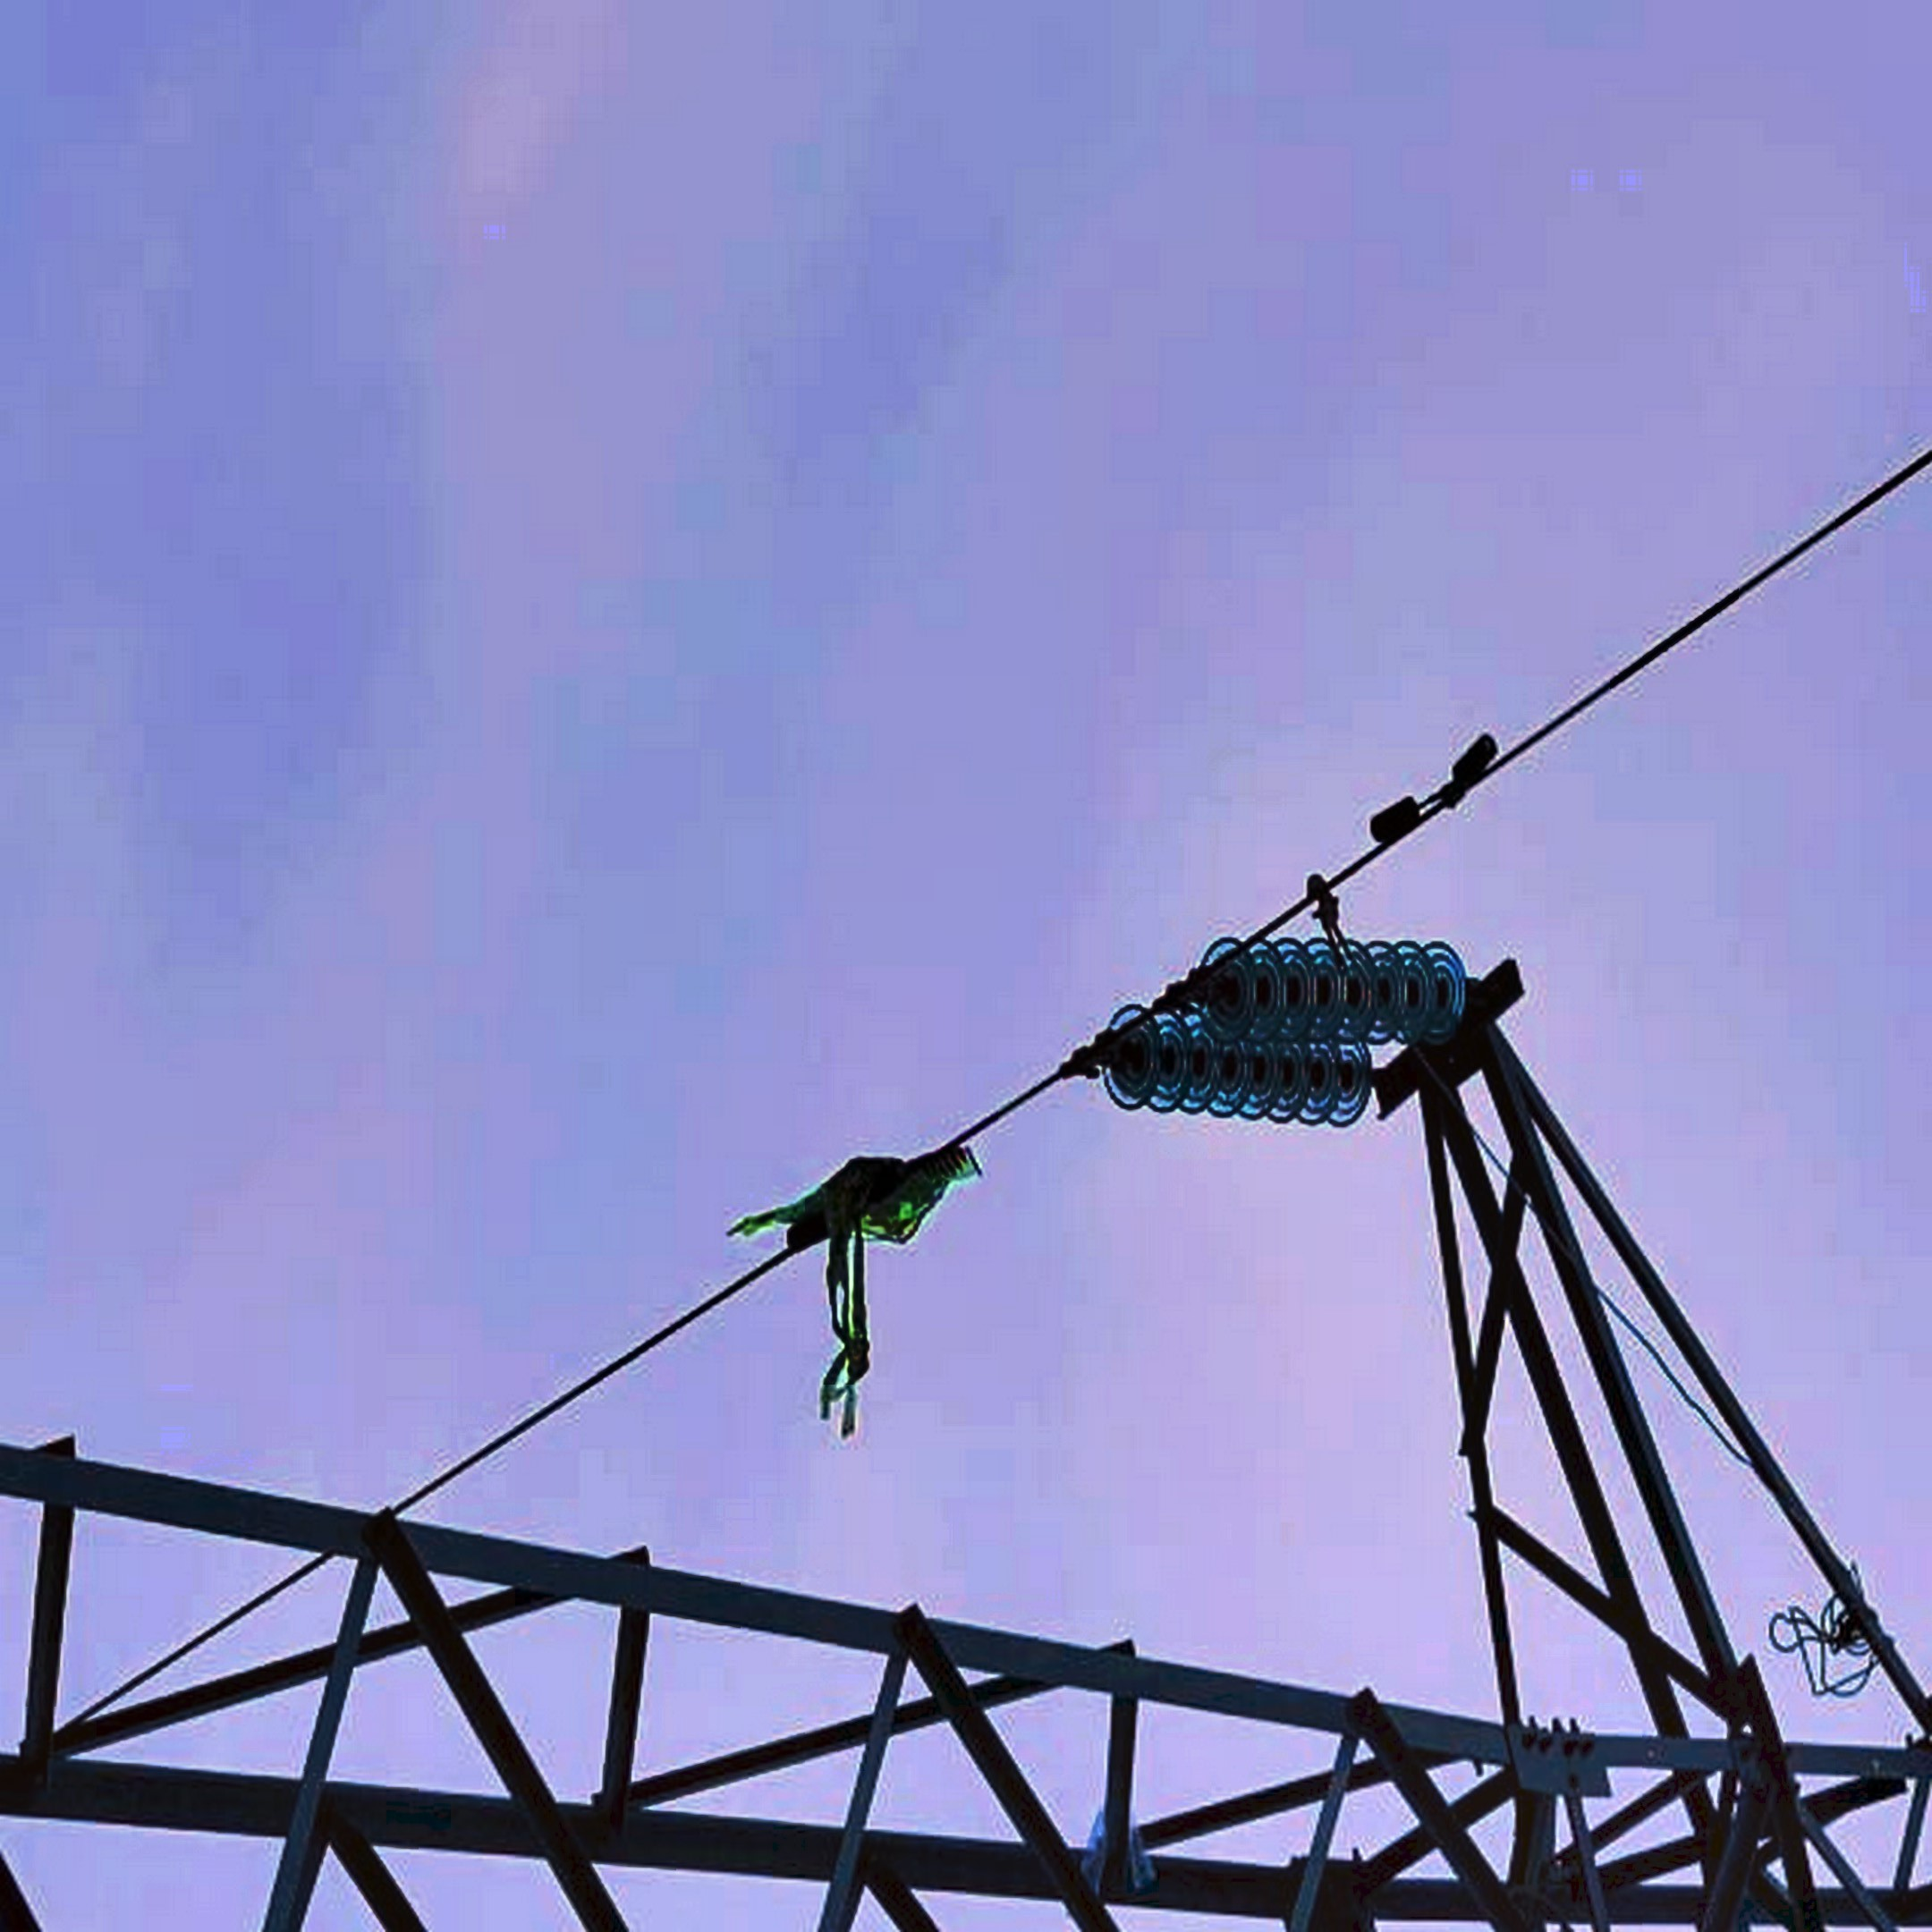wire foreign body: (720, 1099, 1023, 1412)
